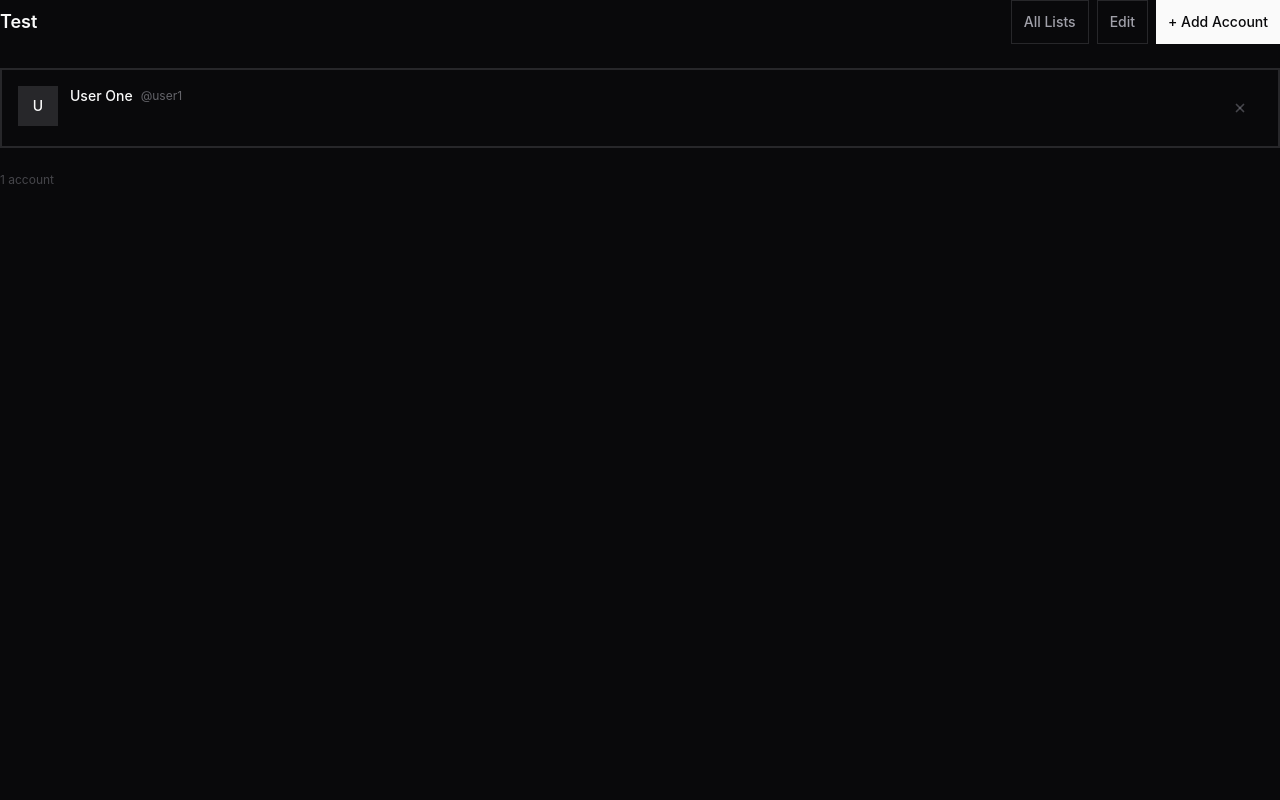
ListsPage › confirms before removing an account
Expected: the text "User One" is shown, x1=70 y1=86 x2=133 y2=106
Click the button named "Remove User One": (1240, 108) x1=1218 y1=86 x2=1262 y2=130
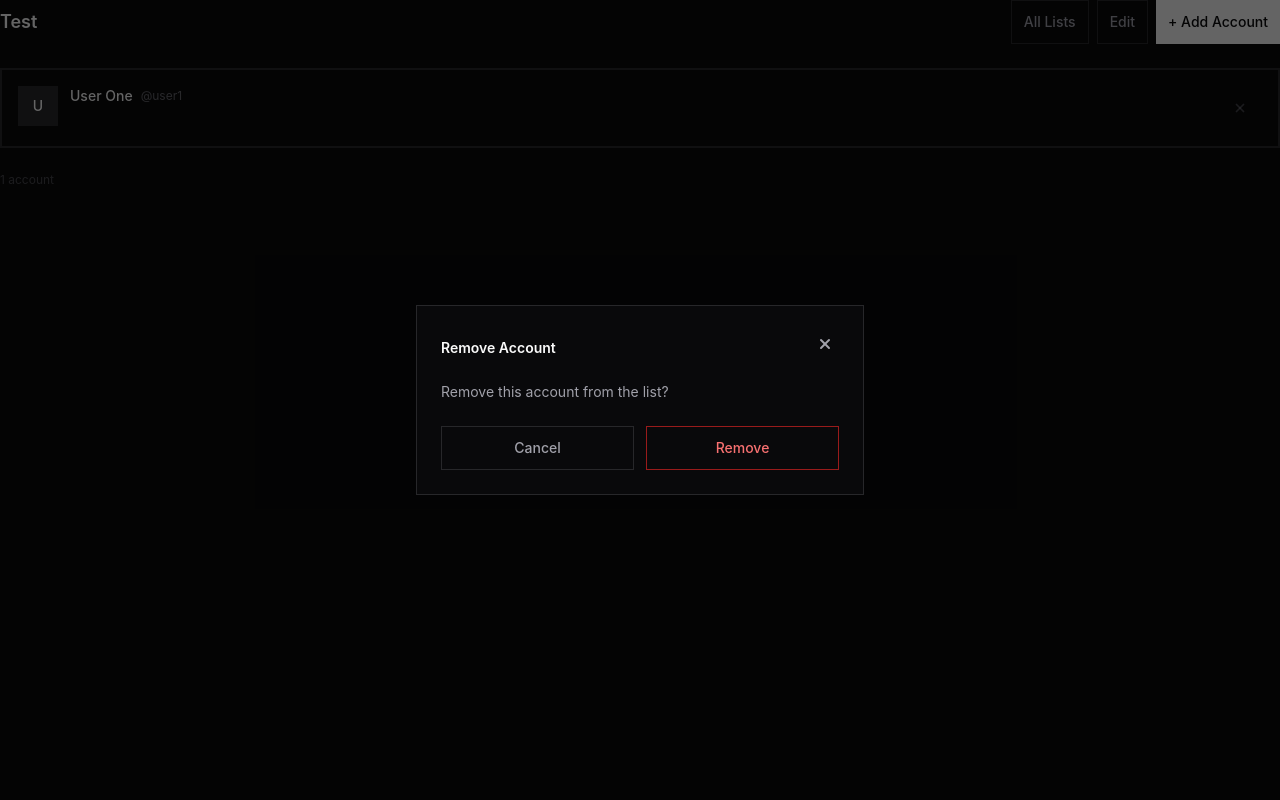
Expected: the heading "Remove Account" is shown, x1=441 y1=338 x2=556 y2=358
Click the button with test id "confirm-delete": (742, 448) x1=646 y1=426 x2=839 y2=470
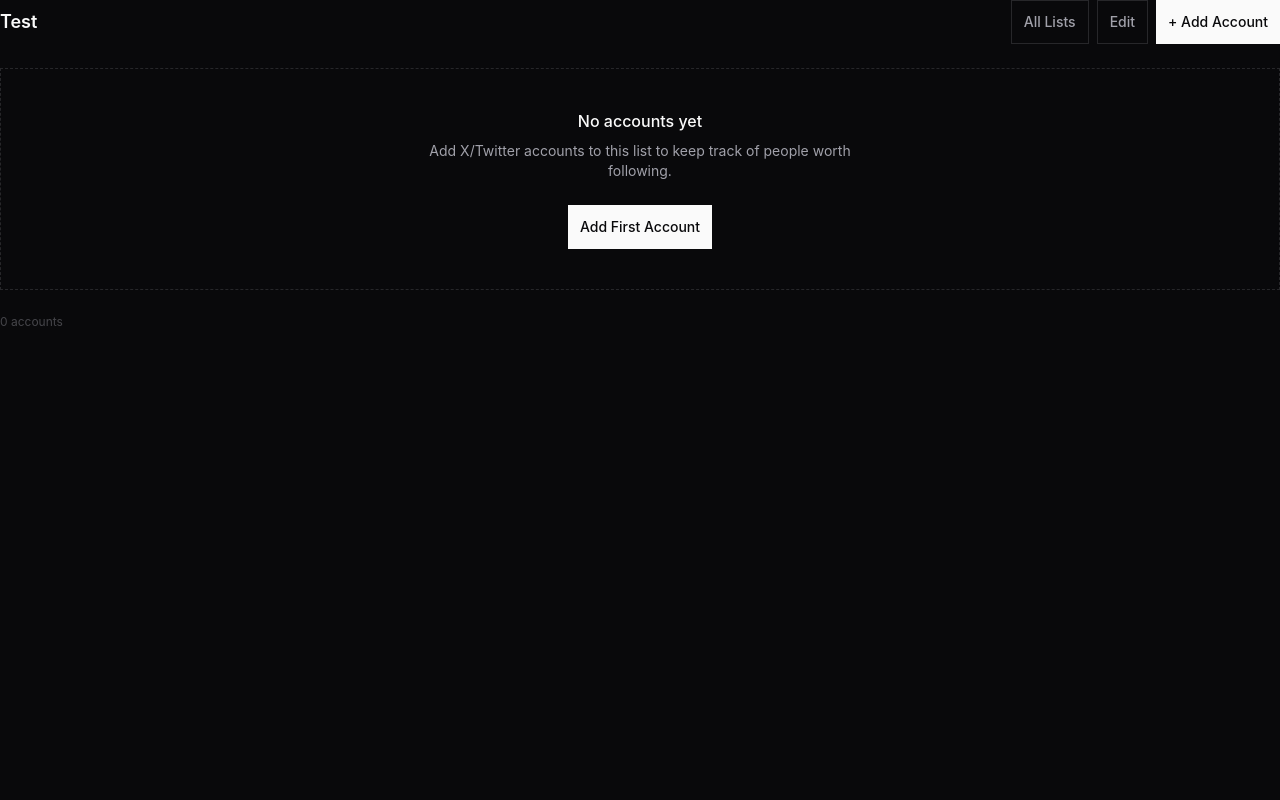
Expected: the link "User One" is gone
